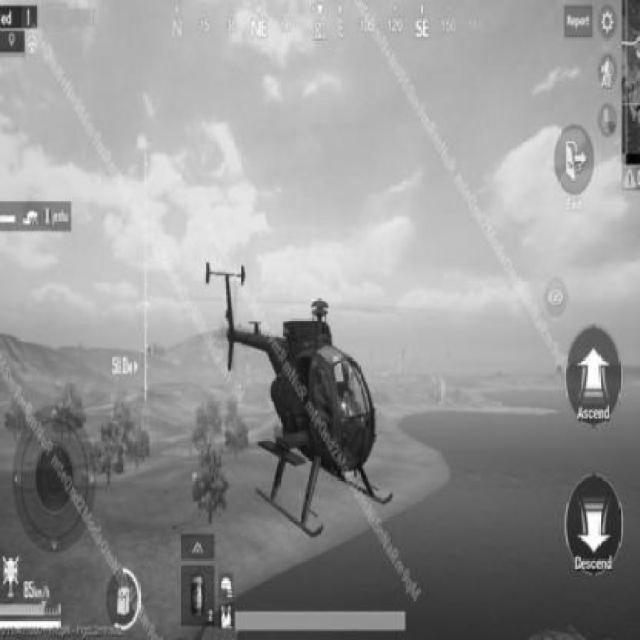helikopter: (194, 259, 414, 547)
